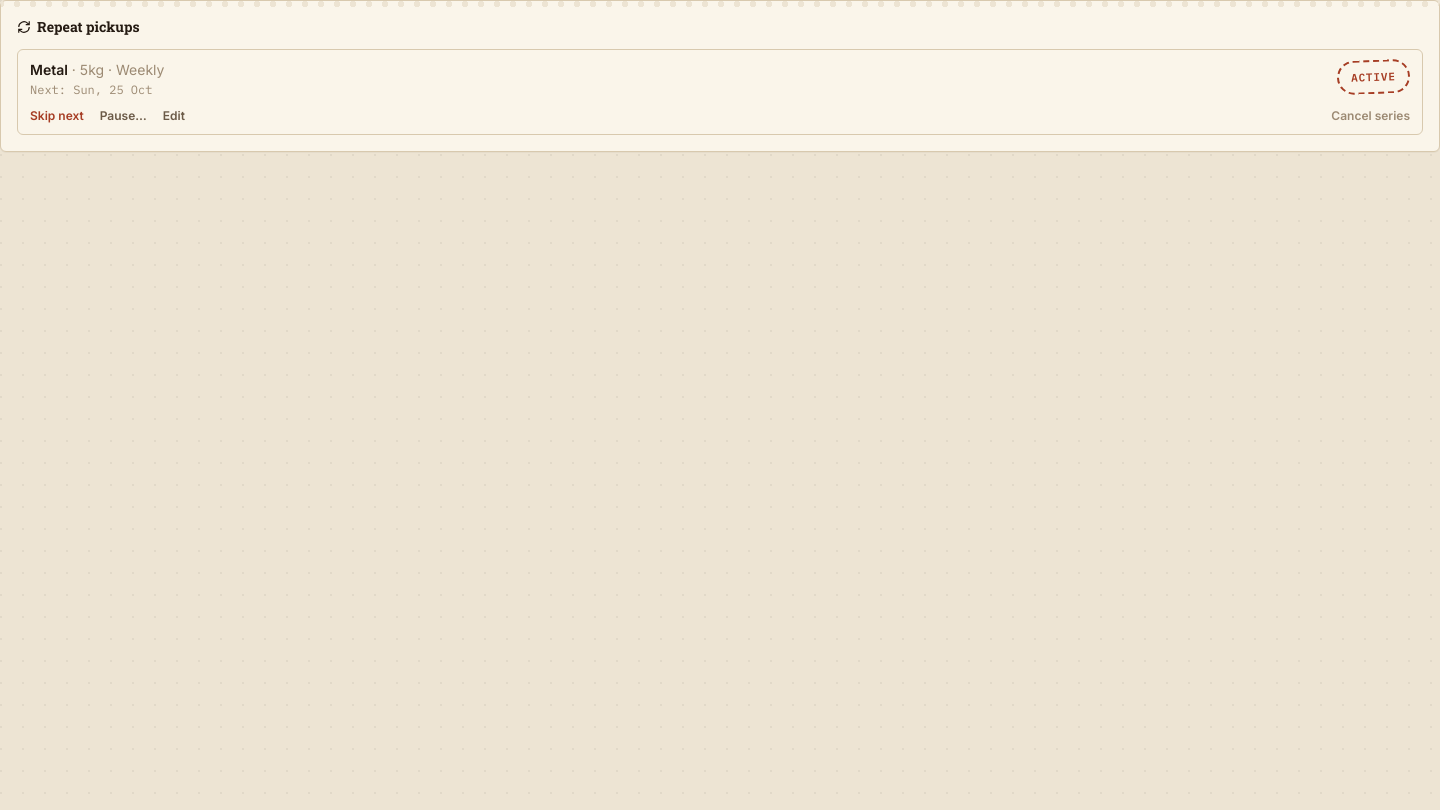
it: RecurringPickupsPanel › a failed action shows the server's message instead of failing silently
Step 1. Click the button "Skip next" → (57, 116), box [30,108,84,124]
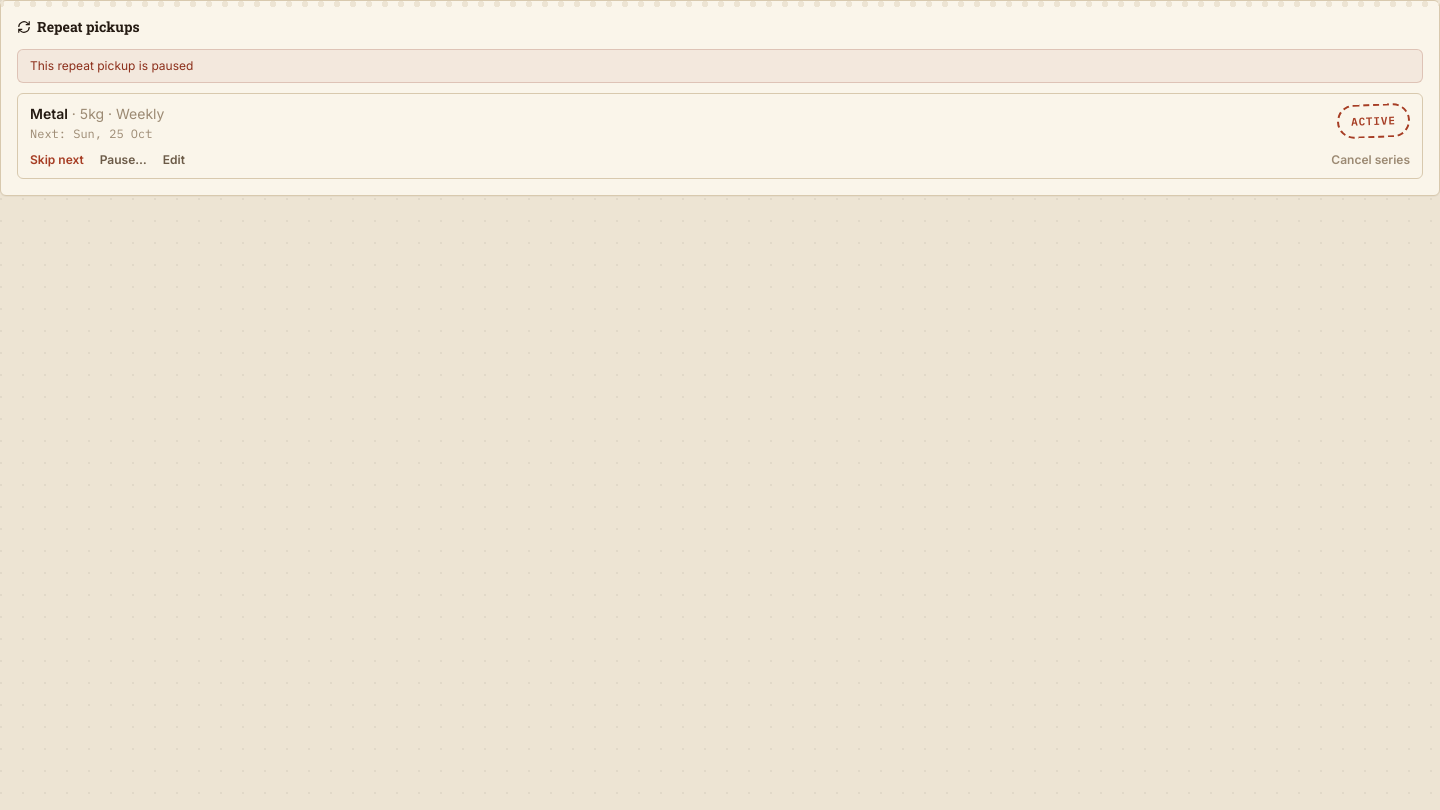
Expected: the text "This repeat pickup is paused" is shown, [17,49,1423,83]
